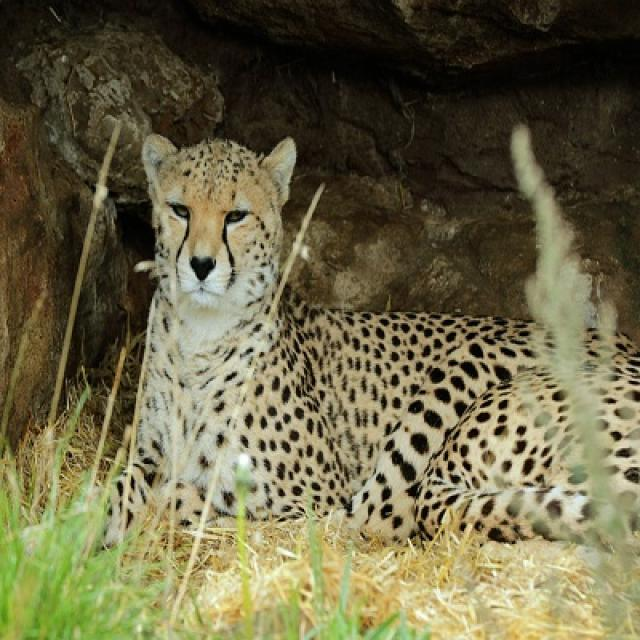Cheetah: (109, 136, 597, 542), (514, 128, 638, 528)
